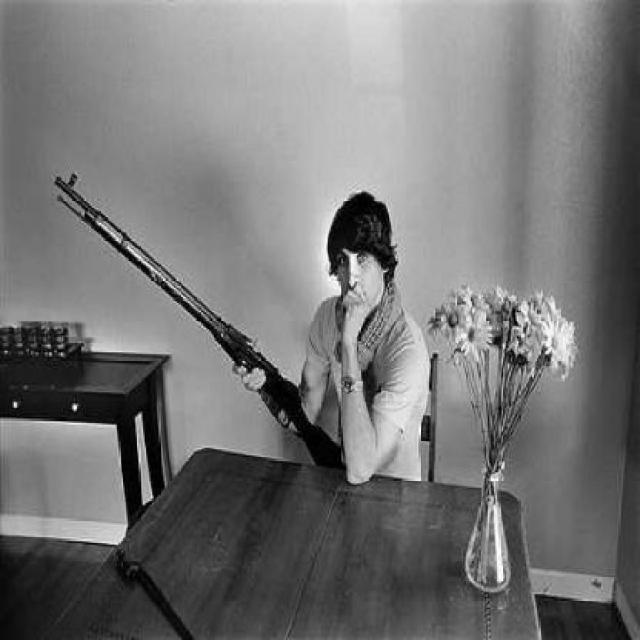weapon: (54, 172, 344, 471)
